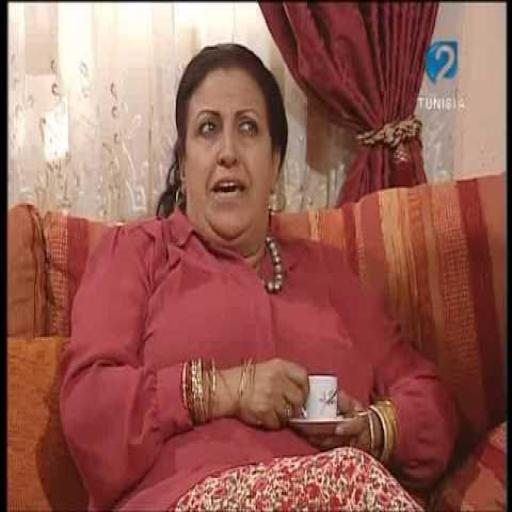jannet: (181, 67, 279, 244)
